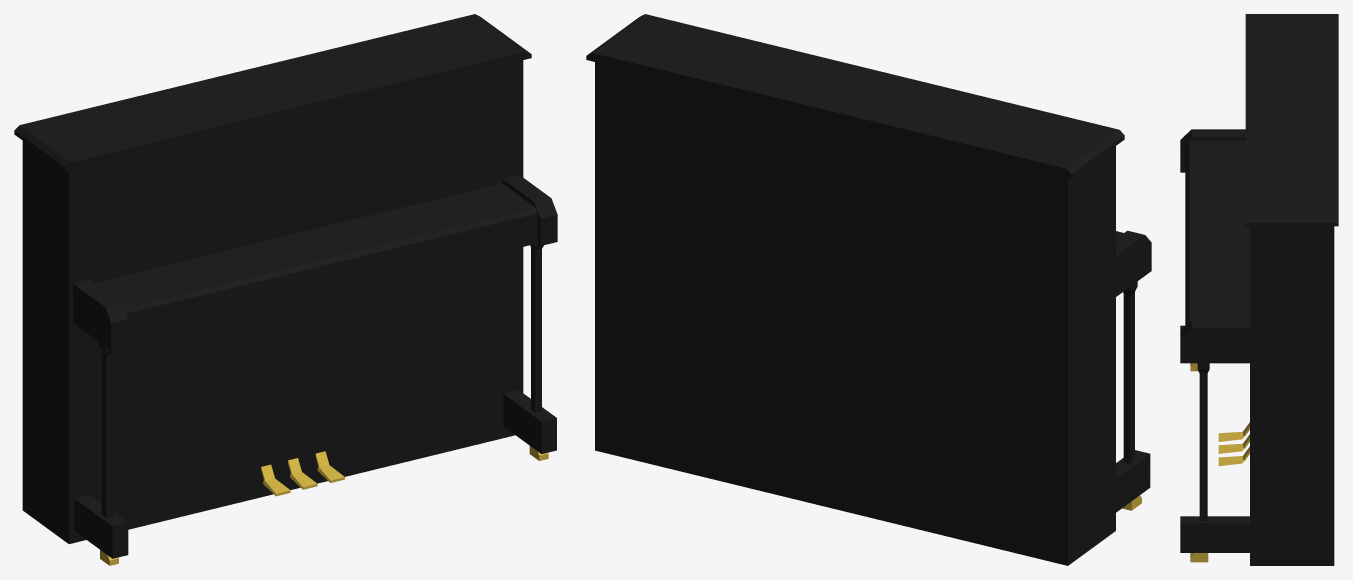
Rendered from piano tertutup.fbx.
3 renders of one model, left to right at view 1: azimuth 30°, elevation 25°; view 2: azimuth 150°, elevation 25°; view 3: azimuth 270°, elevation 25°, orthographic. The views are drawn at different scales.
Parts seen in each view (by area): view 1: Cube, Cube.001, Cube.009, Cube.002, Cube.004, Cube.003; view 2: Cube, Cube.001, Cube.002; view 3: Cube, Cube.001, Cube.009, Cube.003, Cube.002, Cube.012, Cube.010, Cube.011.
Part boxes in pixels (box(x1,y1,x2,y2)): Cube: box(22, 60, 556, 558); Cube.001: box(14, 14, 531, 171); Cube.009: box(95, 183, 537, 334); Cube.002: box(73, 279, 128, 517); Cube.004: box(128, 234, 537, 343); Cube.003: box(502, 175, 557, 412); Cube: box(595, 62, 1150, 565); Cube.001: box(586, 14, 1124, 178); Cube.002: box(1116, 230, 1151, 463); Cube: box(1180, 226, 1334, 565); Cube.001: box(1245, 14, 1338, 226); Cube.009: box(1185, 140, 1249, 325); Cube.003: box(1180, 320, 1249, 521); Cube.002: box(1180, 129, 1245, 172); Cube.012: box(1218, 446, 1249, 465); Cube.010: box(1218, 434, 1249, 453); Cube.011: box(1218, 422, 1249, 441).
Size of the model in its own units: 259 by 204 by 83.62.
Materials: 13 (13 with a texture image).
